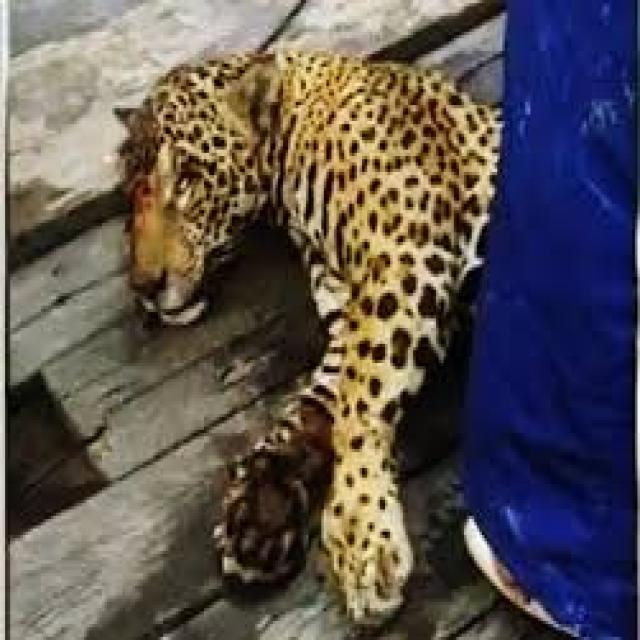Jaguar: (112, 44, 471, 640)
